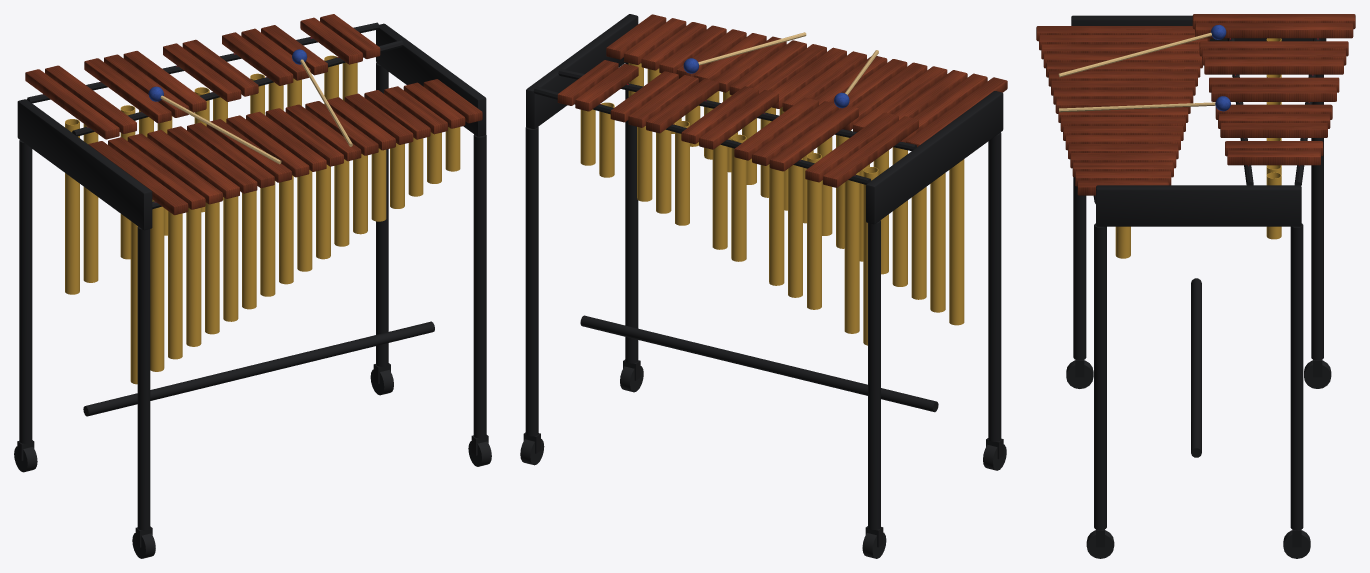
Rendered from xylophone.glb.
3 views of the same model, side by side, from view 1: azimuth 30°, elevation 25°; view 2: azimuth 150°, elevation 25°; view 3: azimuth 270°, elevation 25° (orthographic).
Visible parts, largest first — view 1: Xylophone; view 2: Xylophone; view 3: Xylophone.
Boxes of the visible parts, bbox=[...] form: Xylophone: bbox=[14, 14, 491, 558]; Xylophone: bbox=[520, 14, 1007, 558]; Xylophone: bbox=[1036, 14, 1355, 558].
Size of the model in its own units: 0.911 by 0.9679 by 0.698.
Materials: 7 (2 with a texture image).
